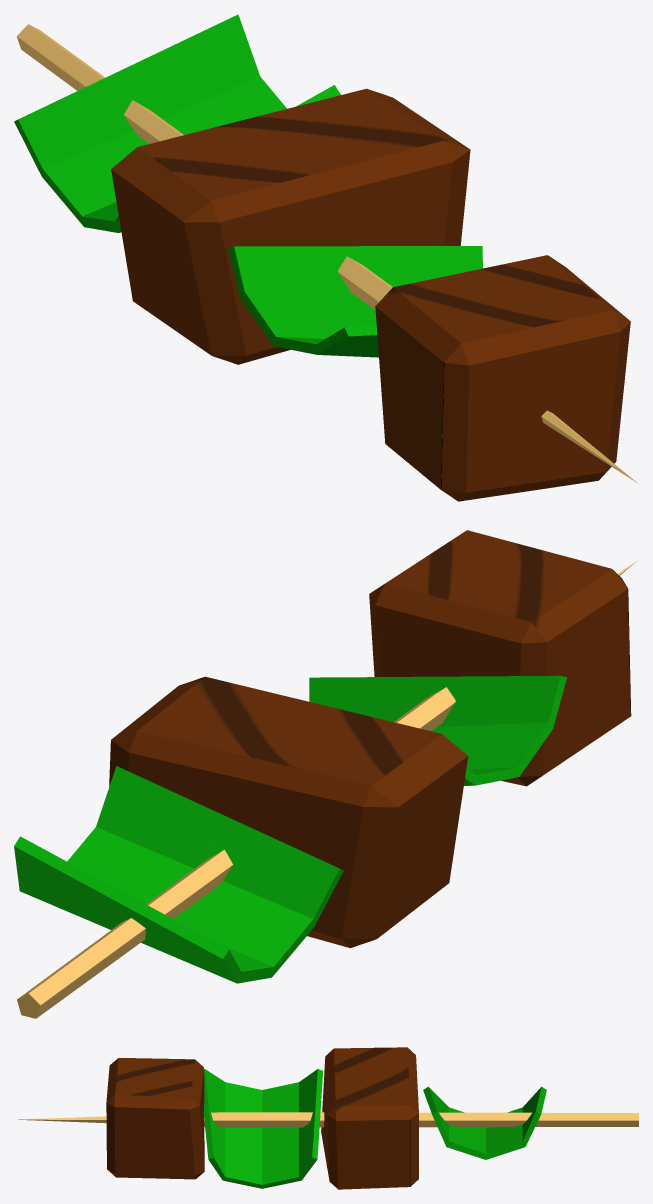
File: PepperStickMeat.Ani 1.fbx
3 views of the same model, one above another, from view 1: azimuth 30°, elevation 25°; view 2: azimuth 150°, elevation 25°; view 3: azimuth 270°, elevation 25° (orthographic). The views are drawn at different scales.
Parts seen in each view (by area): view 1: MeatStick; view 2: MeatStick; view 3: MeatStick.
Boxes of the visible parts, bbox=[...] form: MeatStick: bbox=[14, 14, 636, 501]; MeatStick: bbox=[14, 530, 636, 1018]; MeatStick: bbox=[18, 1047, 638, 1189].
Bounding box in the file's own units: 81.35 × 45.15 × 297.
Materials: 4 (2 with a texture image).
